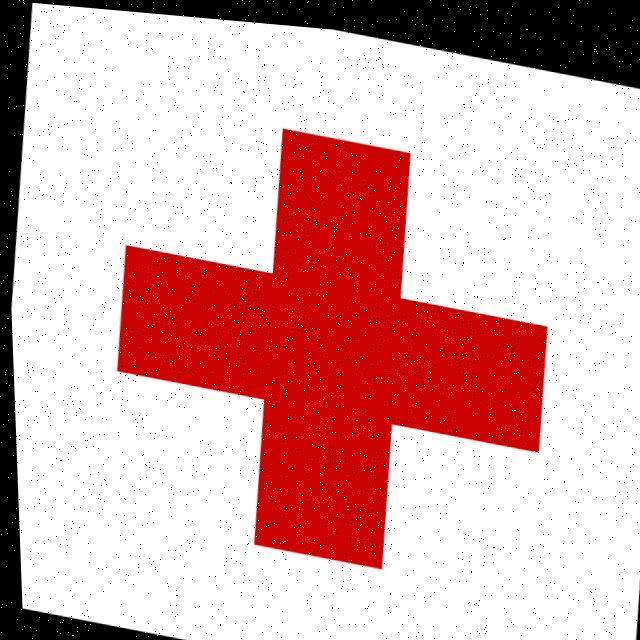cross: (86, 96, 589, 587)
